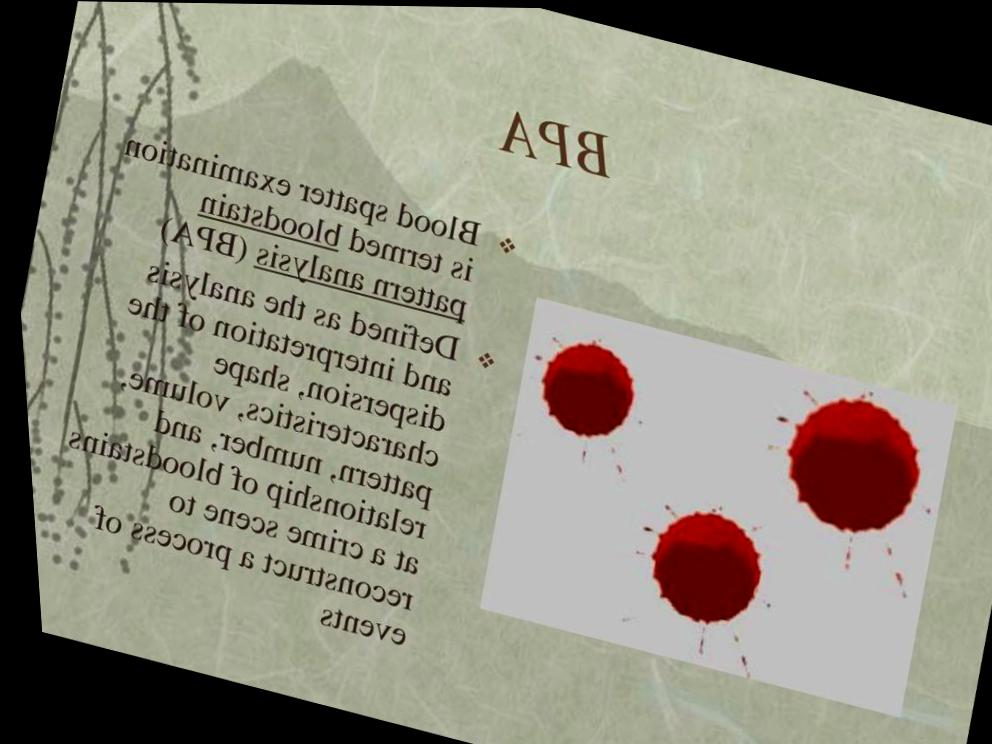Fire: (781, 392, 915, 529), (643, 508, 754, 621), (536, 339, 630, 434)
